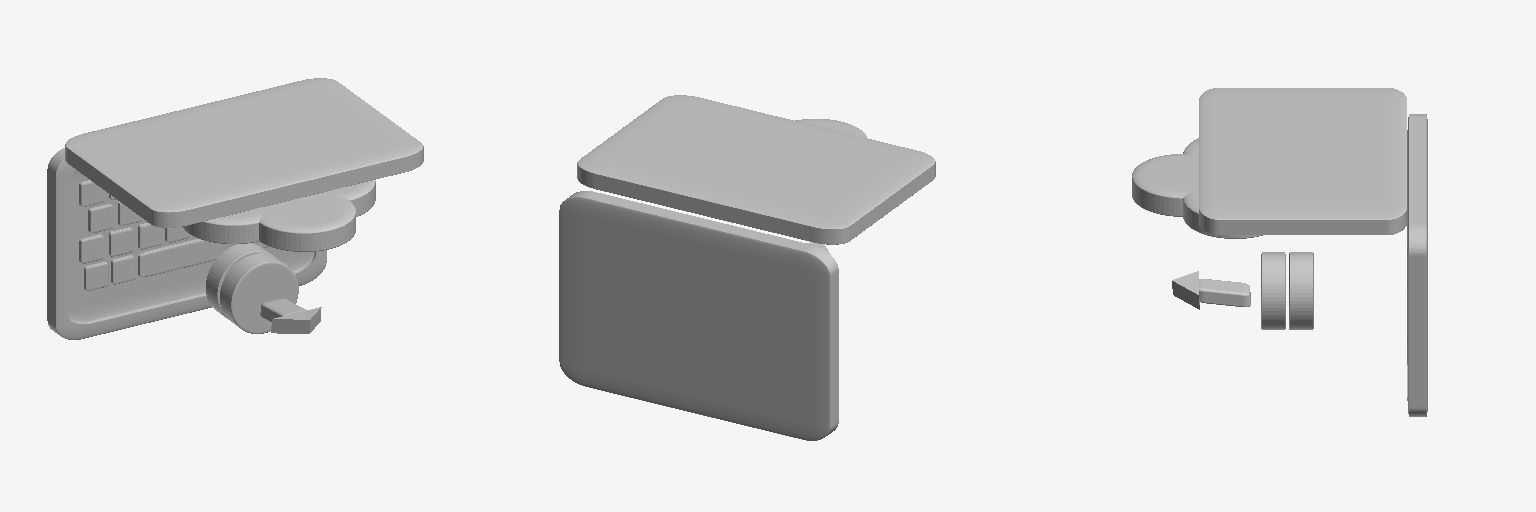
Rendered from nube.obj.
The picture shows the model from 3 angles: view 1: azimuth 30°, elevation 25°; view 2: azimuth 150°, elevation 25°; view 3: azimuth 270°, elevation 25°; orthographic projection.
Visible parts, largest first — view 1: obj_0; view 2: obj_0; view 3: obj_0.
Boxes of the visible parts, x1=… form: obj_0: x1=47, y1=78, x2=423, y2=339; obj_0: x1=559, y1=95, x2=935, y2=440; obj_0: x1=1132, y1=88, x2=1427, y2=416.
Size of the model in its own units: 60 by 44 by 56.88.